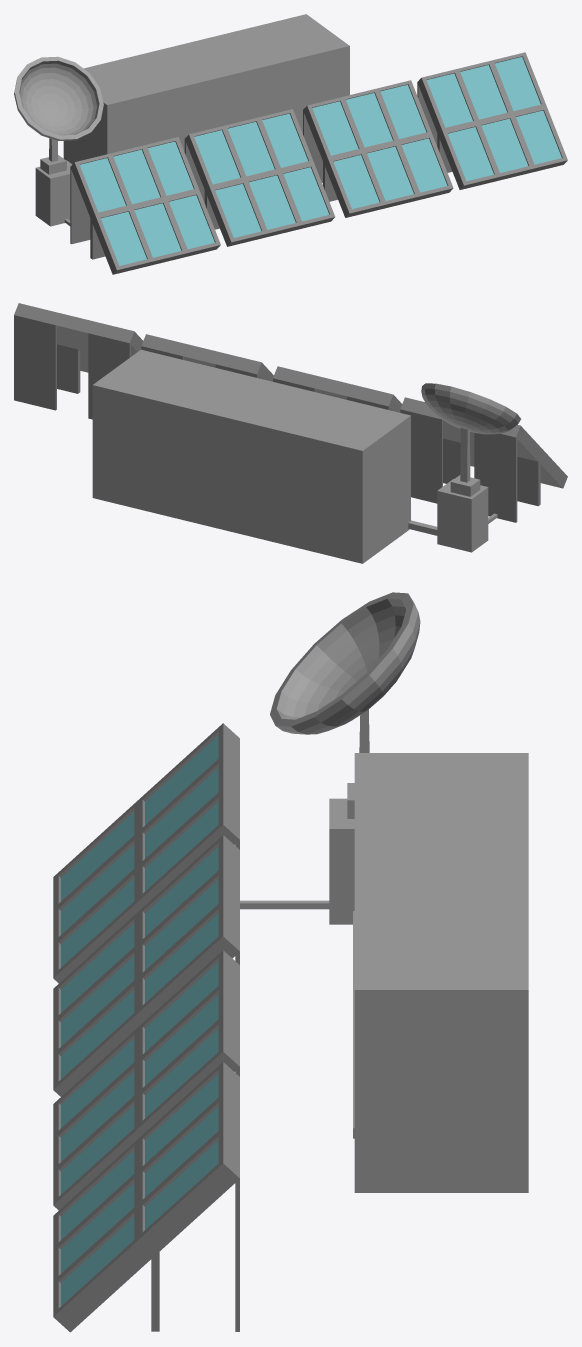
Rendered from Solar panel 03.fbx.
3 views of the same model, one above another, from view 1: azimuth 30°, elevation 25°; view 2: azimuth 150°, elevation 25°; view 3: azimuth 270°, elevation 25° (orthographic). The views are drawn at different scales.
Visible parts, largest first — view 1: Cube.001; view 2: Cube.001; view 3: Cube.001.
Boxes of the visible parts, x1,y1,x2,y2 form: Cube.001: [14, 14, 567, 274]; Cube.001: [14, 303, 567, 563]; Cube.001: [53, 592, 528, 1332].
Size of the model in its own units: 918 by 278 by 396.
